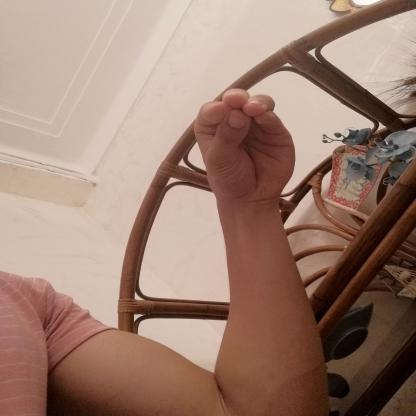HA: (170, 78, 324, 220)
